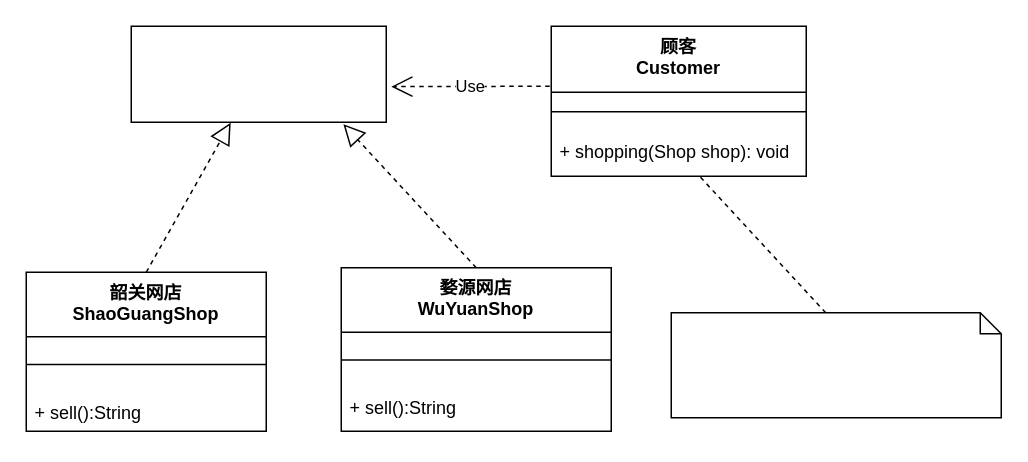
Some shapes in this 1028 by 462 pixel diagram are drawn without their labels. Here are the shapes that lost their labels. From the top down, the centre of each, then its label:
At point (258, 73): "«interface» shop + sell():String".
At point (835, 364): "public void shopping(Shop shoop){ System.out.println(shop.sell()); }".
